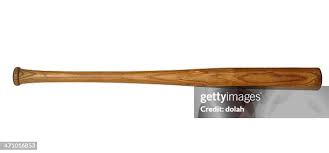baseball bat: (11, 66, 323, 90)
